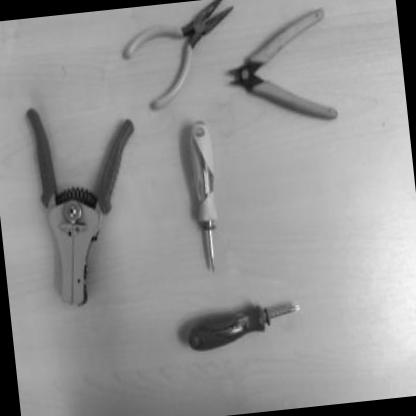Screwdriver: (175, 110, 228, 278), (180, 296, 308, 355)
